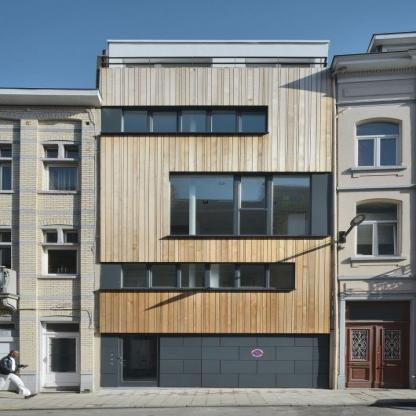Balcony: (99, 56, 332, 85)
Building Outline: (97, 39, 333, 388)
Door: (120, 333, 159, 387)
Facade: (96, 40, 333, 389)
Floor Slab: (98, 86, 332, 93), (100, 161, 332, 168), (100, 310, 330, 317), (101, 249, 331, 256)
Window: (171, 175, 234, 235), (274, 175, 310, 235), (127, 64, 209, 85), (246, 64, 310, 85), (242, 175, 265, 207), (270, 264, 295, 287), (152, 264, 177, 287), (210, 264, 235, 287), (240, 264, 265, 287), (181, 264, 205, 287), (152, 110, 177, 132), (242, 212, 265, 235), (211, 110, 235, 132), (124, 264, 146, 287), (242, 110, 265, 132), (124, 110, 146, 132), (183, 110, 205, 132)
